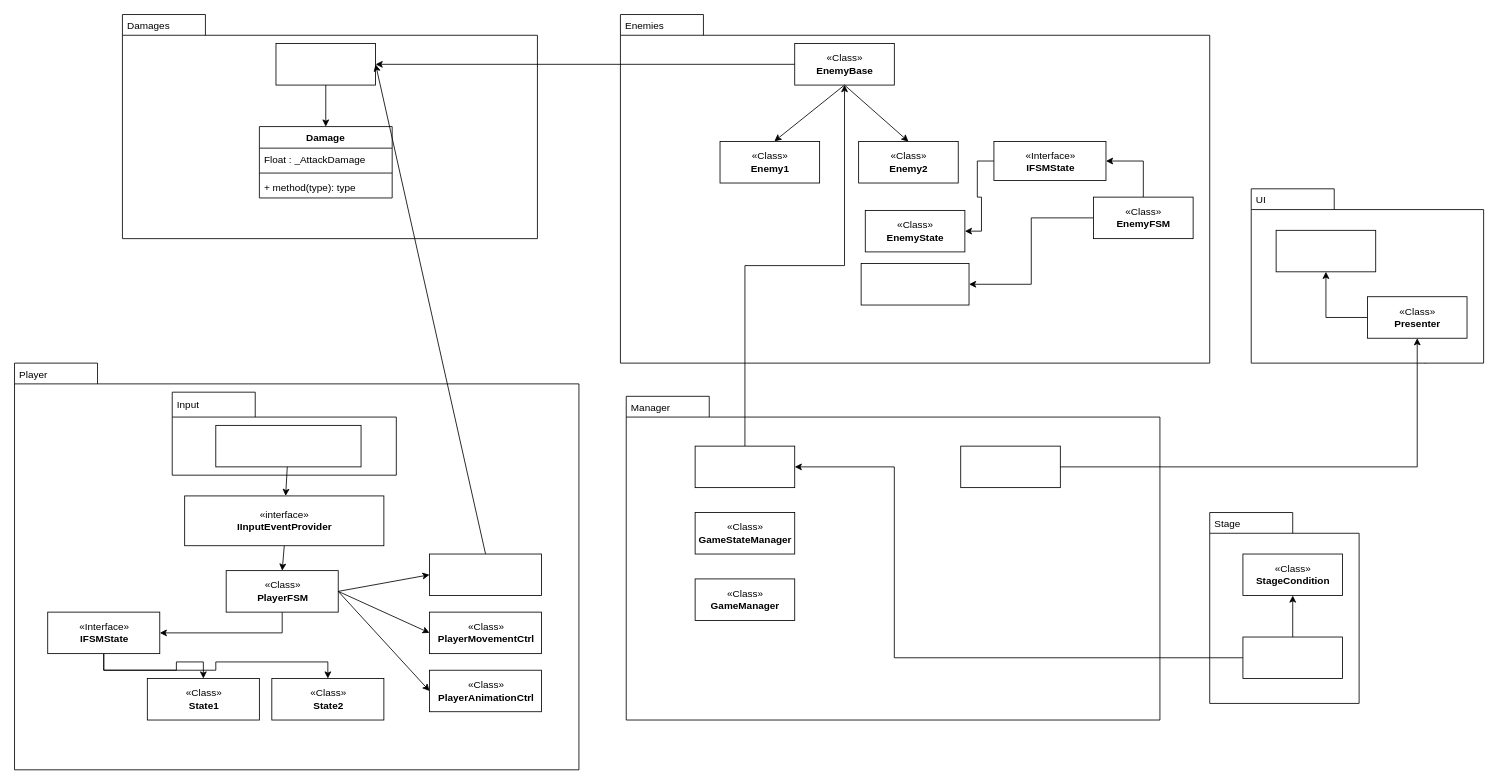
Image size: 1498x784. Some labels were removed from this diagram. Here are the shapes that lost their labels. From the top down, the centre of each, then its label:
the point at 325,64: «interface» IDamageApplicable
the point at 1325,250: «Class» UIView
the point at 914,284: «Class» EnemyAnimationCtrl
the point at 288,446: «Class» PlayerInputEventProvider
the point at 744,466: «Class» ObjPool
the point at 1010,466: «Class» UIMgr
the point at 485,574: «Class» PlayerUnit
the point at 1292,657: «Class» Spawner
